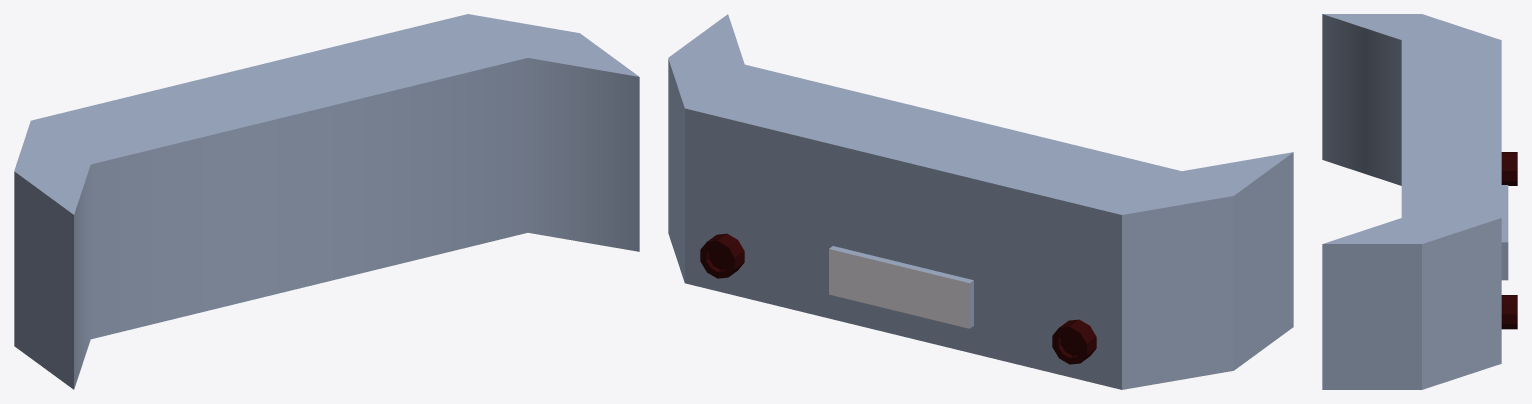
File: bumper3.1.fbx
3 views of the same model, side by side, from view 1: azimuth 30°, elevation 25°; view 2: azimuth 150°, elevation 25°; view 3: azimuth 270°, elevation 25° (orthographic). The views are drawn at different scales.
Visible parts, largest first — view 1: bumper; view 2: bumper; view 3: bumper.
Part boxes in pixels (x1,y1,x2,y2): bumper: (14, 14, 639, 389); bumper: (668, 14, 1293, 389); bumper: (1322, 14, 1517, 389).
Size of the model in its own units: 2.2 by 0.65 by 0.7903.
